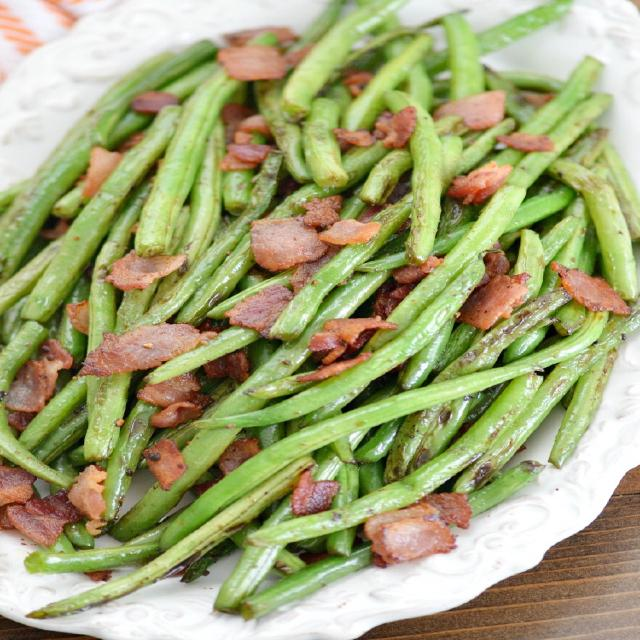dau que: (0, 0, 639, 618)
